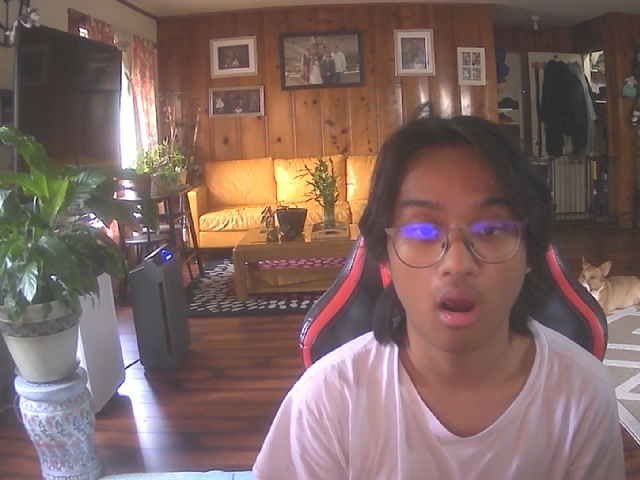fear: (383, 123, 538, 354)
